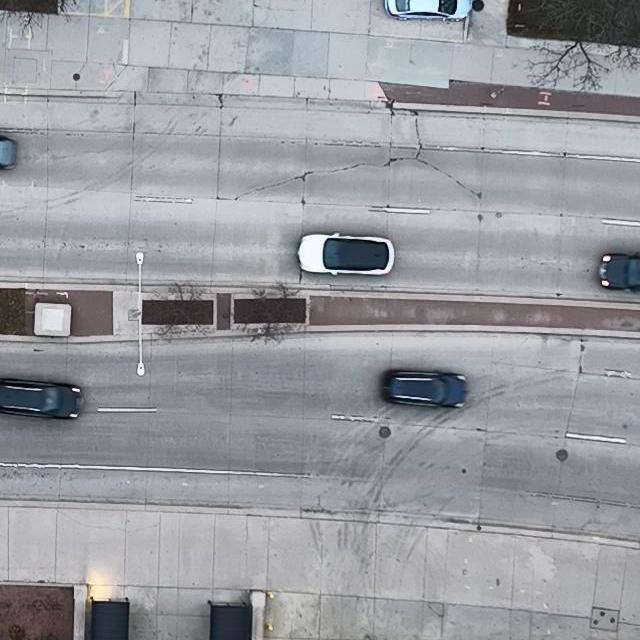car: (298, 232, 394, 276), (382, 368, 469, 408), (0, 379, 84, 419), (384, 0, 473, 21), (599, 251, 640, 293), (0, 136, 19, 168)
